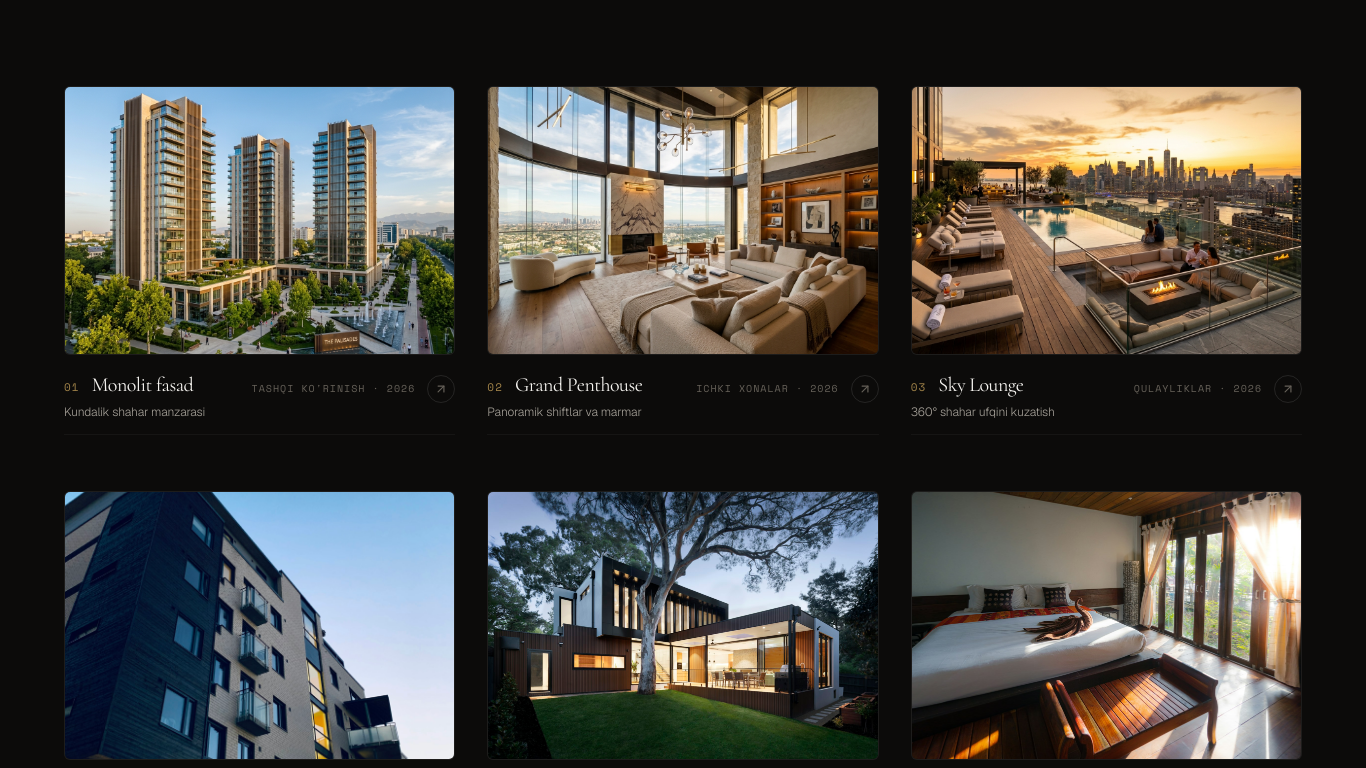
Test: Gallery Component › closes lightbox on Escape key
(page scrolled)
Click the heading "Monolit fasad". click: (142, 384)
box: x1=92 y1=370 x2=193 y2=398
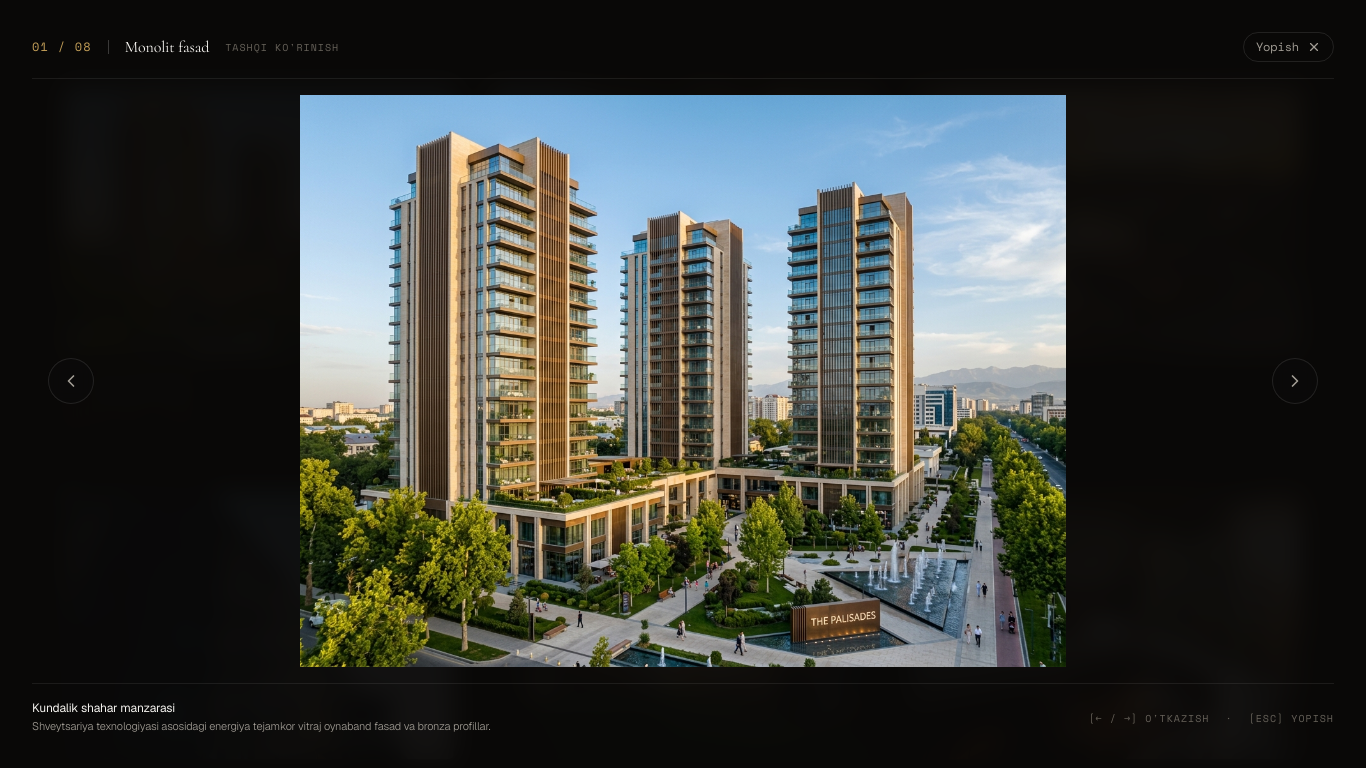
Expected: the dialog is shown
Press Escape
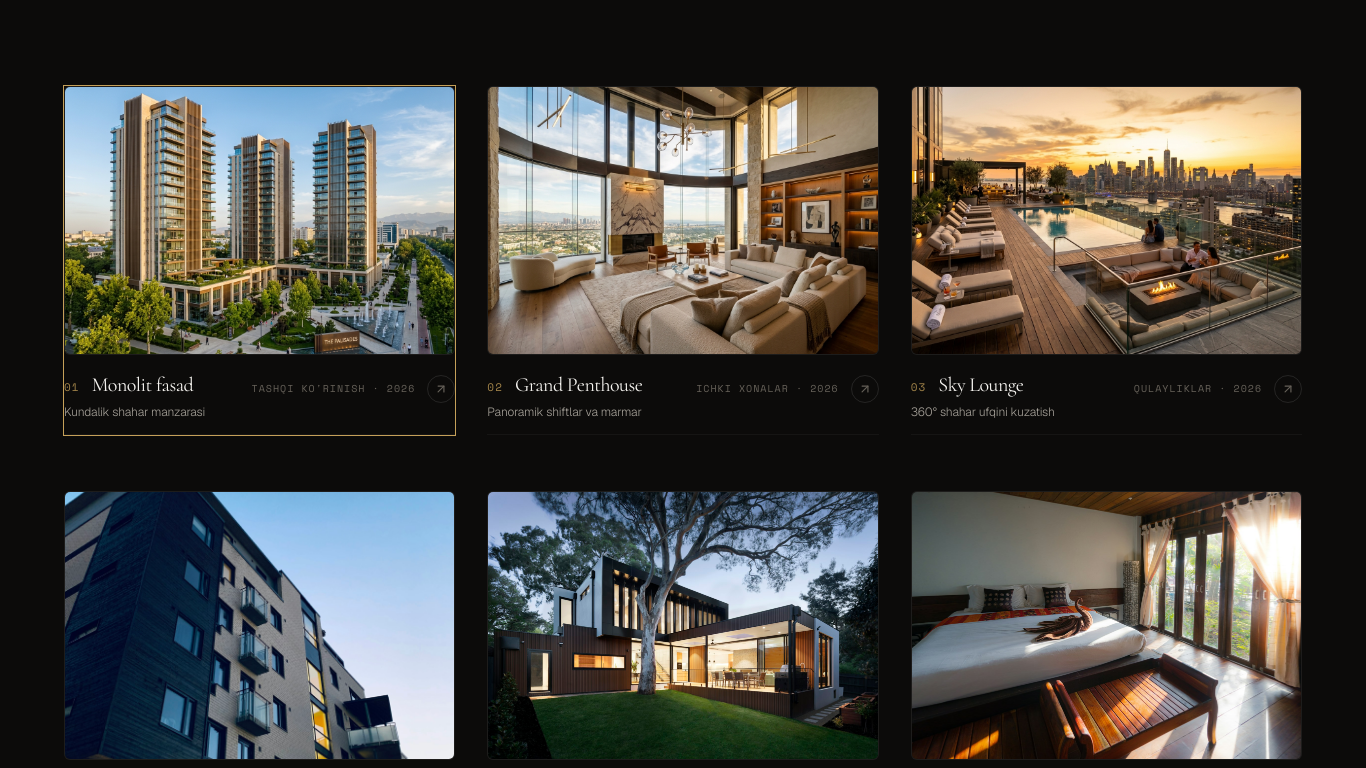
Expected: the dialog is gone
